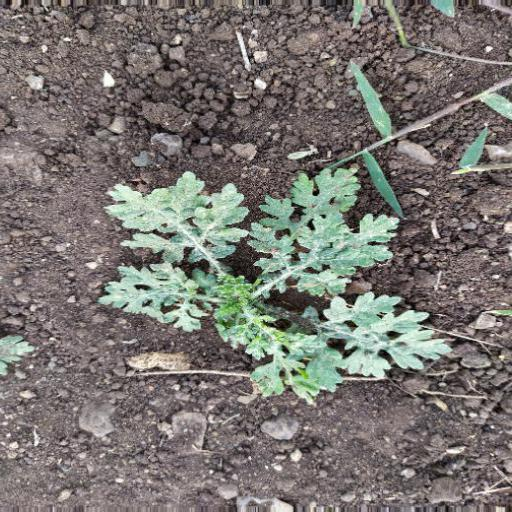weed: (94, 163, 455, 401)
